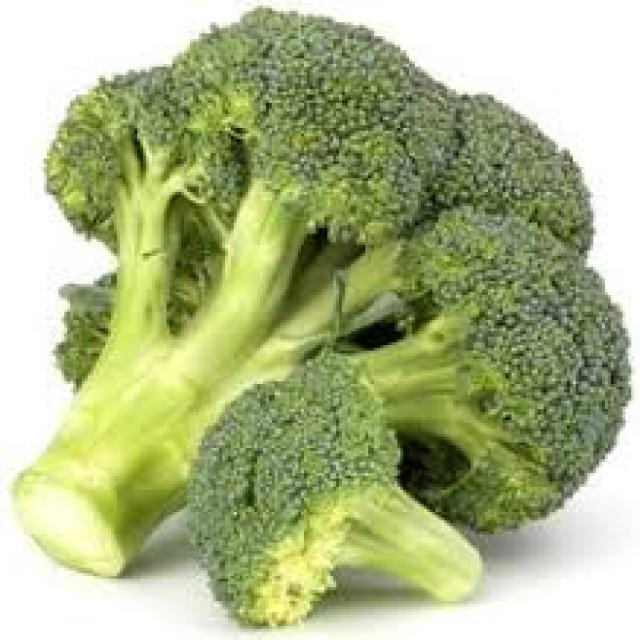broccoli: (13, 0, 640, 640), (176, 356, 539, 640)
